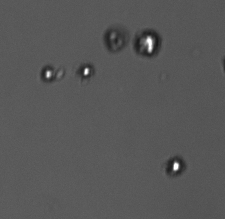Dead Cell: (104, 27, 126, 53)
Living Cell: (136, 29, 160, 57), (166, 156, 185, 176), (41, 67, 55, 82), (80, 64, 93, 79)
